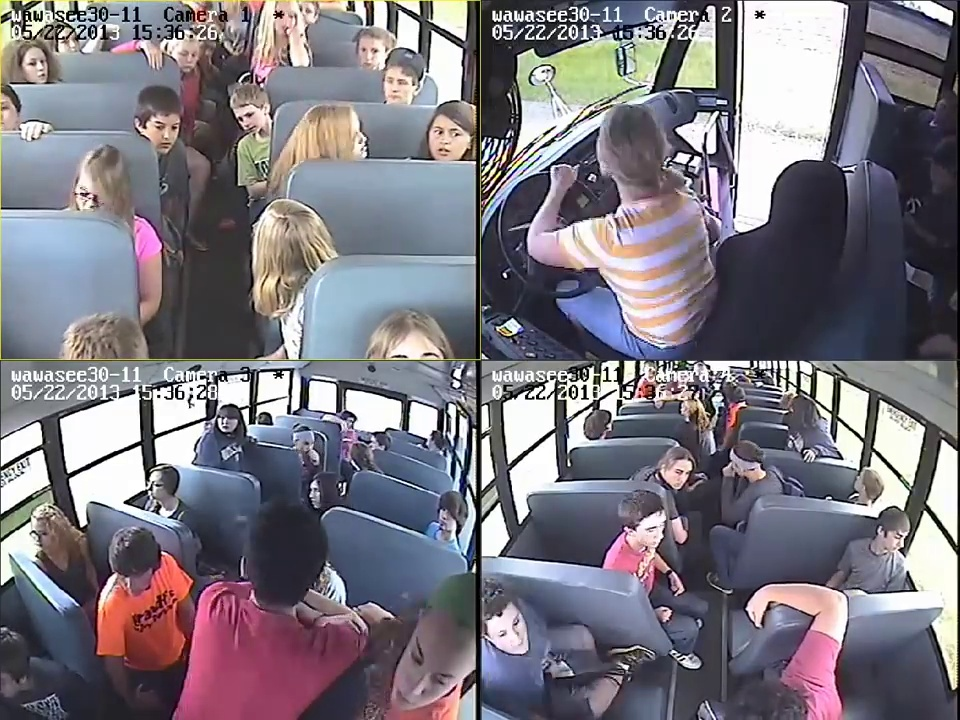face: (394, 630, 460, 711), (485, 601, 528, 656), (112, 559, 152, 600), (428, 123, 467, 159), (75, 175, 112, 209), (150, 112, 180, 152), (19, 49, 50, 81), (639, 512, 671, 543), (435, 505, 466, 533), (385, 71, 412, 103), (234, 103, 258, 138), (667, 454, 691, 489), (171, 41, 195, 71), (31, 520, 55, 549), (1, 96, 20, 132), (885, 523, 907, 552), (359, 40, 381, 68), (147, 472, 171, 497), (309, 482, 326, 511), (299, 0, 316, 26), (216, 415, 240, 433), (293, 438, 313, 454)
